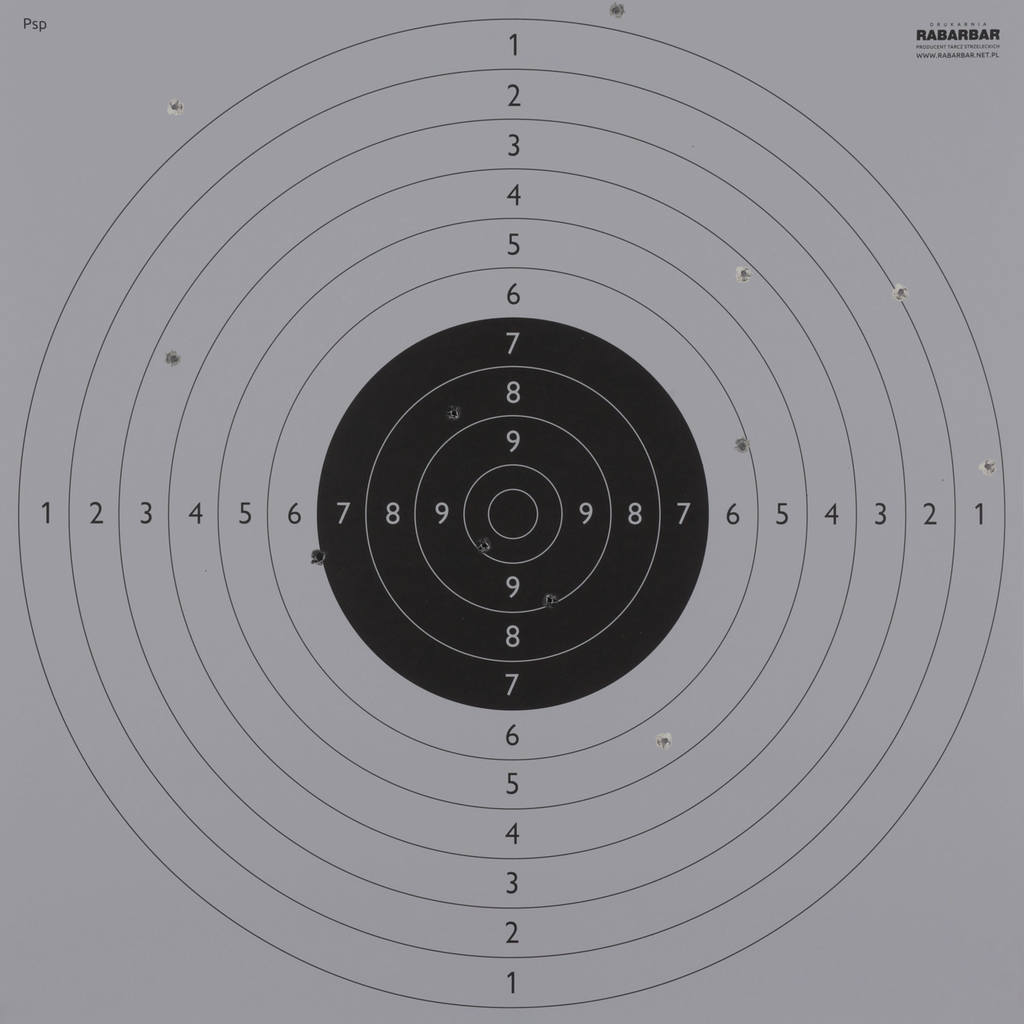0 punktow: (166, 98, 184, 116)
1 punkt: (979, 457, 997, 476)
10 punktow: (475, 536, 494, 555)
2 punkty: (892, 283, 910, 302)
3 punkty: (164, 349, 183, 368)
4 punkty: (735, 265, 753, 283)
5 punktow: (655, 732, 674, 750)
6 punktow: (733, 437, 752, 455)
7 punktow: (310, 548, 329, 566)
8 punktow: (445, 404, 464, 423)
9 punktow: (540, 591, 559, 609)
